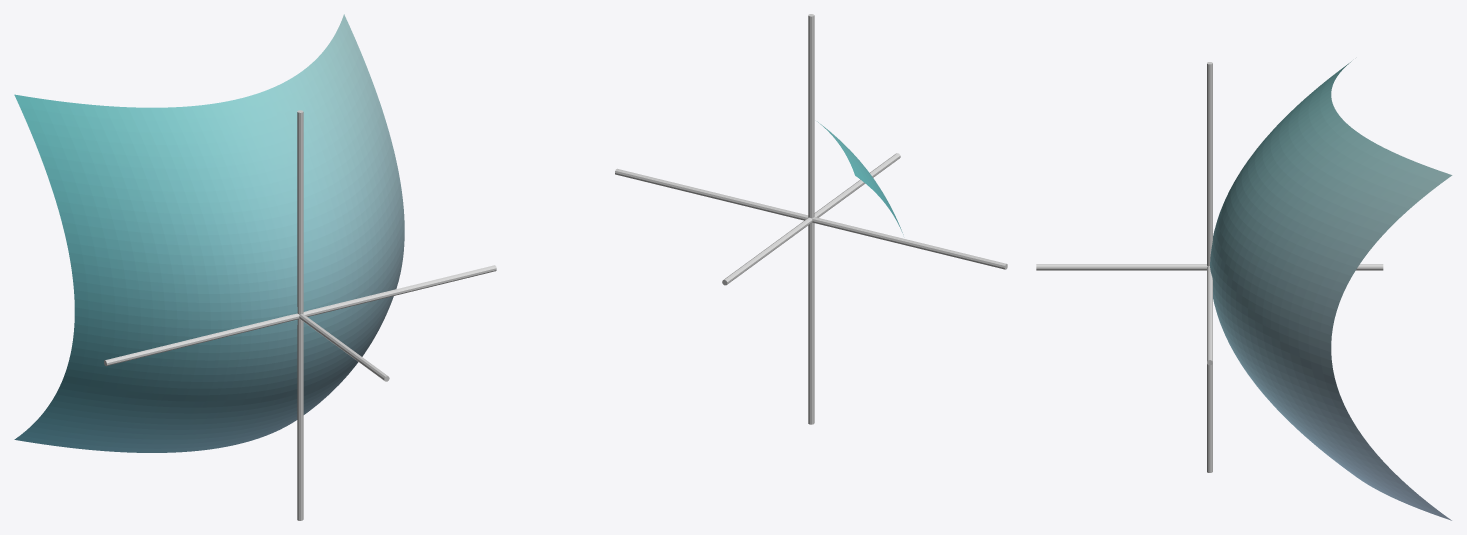
Rendered from calculo_-2.glb.
3 renders of one model, left to right at view 1: azimuth 30°, elevation 25°; view 2: azimuth 150°, elevation 25°; view 3: azimuth 270°, elevation 25°, orthographic.
Parts seen in each view (by area): view 1: calculo_-2.glb_0, calculo_-2.glb_2, calculo_-2.glb_1, calculo_-2.glb_3; view 2: calculo_-2.glb_2, calculo_-2.glb_1, calculo_-2.glb_3, calculo_-2.glb_0; view 3: calculo_-2.glb_0, calculo_-2.glb_2, calculo_-2.glb_3, calculo_-2.glb_1.
Boxes of the visible parts, x1,y1,x2,y2 form: calculo_-2.glb_0: (14, 14, 404, 452); calculo_-2.glb_2: (297, 110, 303, 520); calculo_-2.glb_1: (104, 265, 496, 366); calculo_-2.glb_3: (299, 314, 389, 381); calculo_-2.glb_2: (808, 14, 814, 424); calculo_-2.glb_1: (615, 168, 1007, 269); calculo_-2.glb_3: (722, 153, 900, 285); calculo_-2.glb_0: (817, 121, 903, 234); calculo_-2.glb_0: (1210, 61, 1452, 520); calculo_-2.glb_2: (1207, 62, 1212, 472); calculo_-2.glb_3: (1036, 264, 1383, 270); calculo_-2.glb_1: (1207, 266, 1212, 365).
Size of the model in its own units: 1.3 by 1.3 by 1.2.
